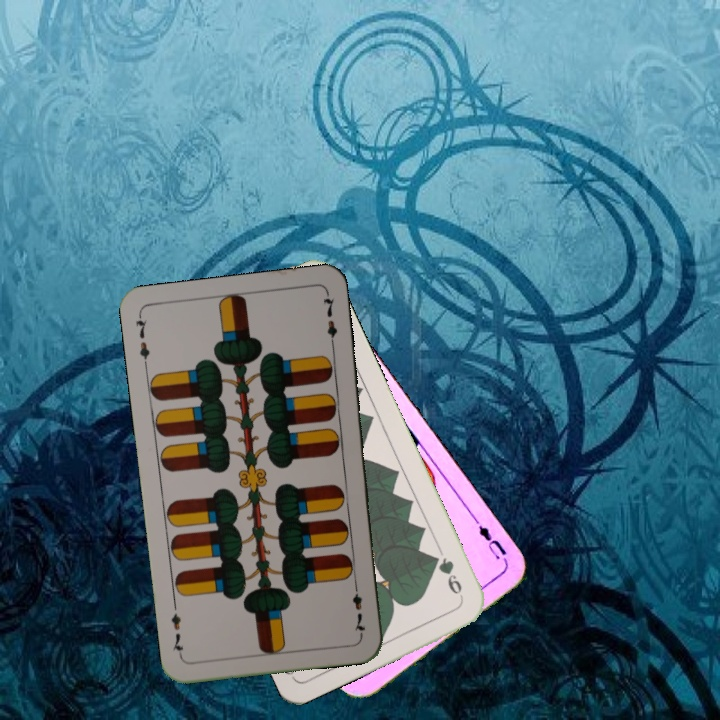E7: (131, 311, 153, 370), (348, 578, 368, 637)
EU: (471, 516, 511, 569)
G9: (429, 551, 466, 602)
